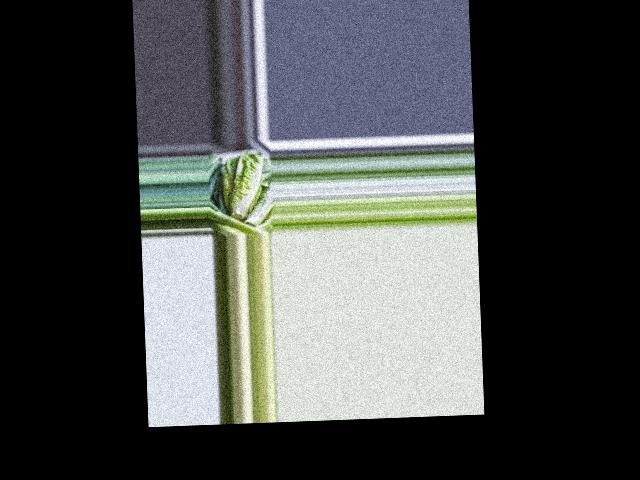lettuce: (220, 150, 266, 221)
